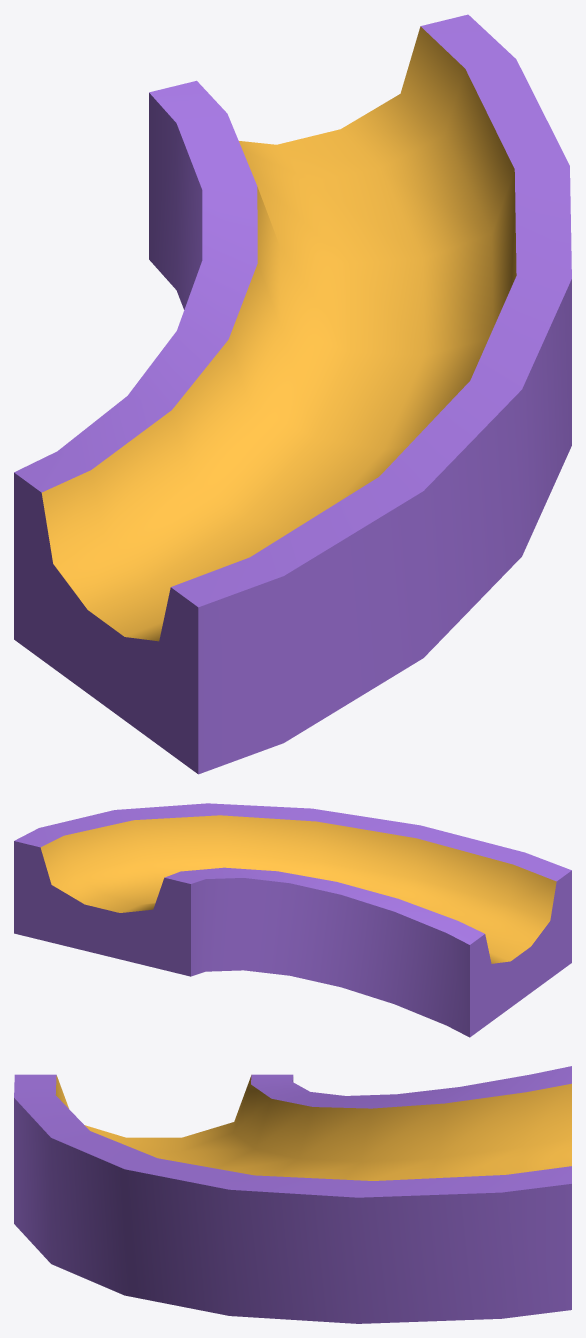
The model's file is helix-quarter-left-col.glb.
3 renders of one model, top to bottom at view 1: azimuth 30°, elevation 25°; view 2: azimuth 150°, elevation 25°; view 3: azimuth 270°, elevation 25°, orthographic. The views are drawn at different scales.
Visible parts, largest first — view 1: helix-quarter-left-col; view 2: helix-quarter-left-col; view 3: helix-quarter-left-col.
Boxes of the visible parts, x1,y1,x2,y2 form: helix-quarter-left-col: (14, 14, 571, 774); helix-quarter-left-col: (14, 803, 571, 1037); helix-quarter-left-col: (14, 1066, 571, 1323).
Bounding box in the file's own units: 2 × 1 × 2.
Materials: 1 (1 with a texture image).
